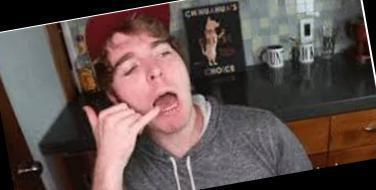Drunk: (105, 31, 195, 132)
